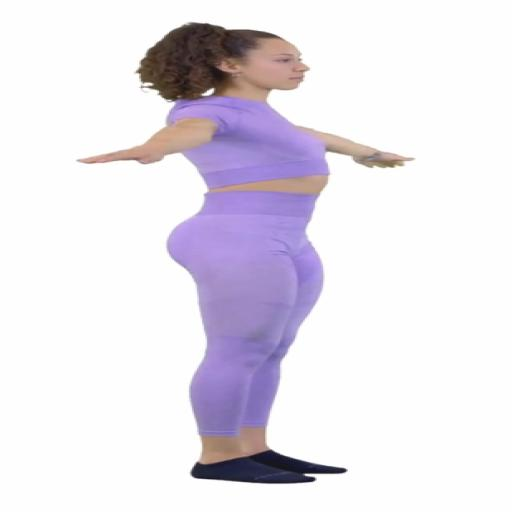Normal_JumpingJacks: (61, 15, 434, 512)
